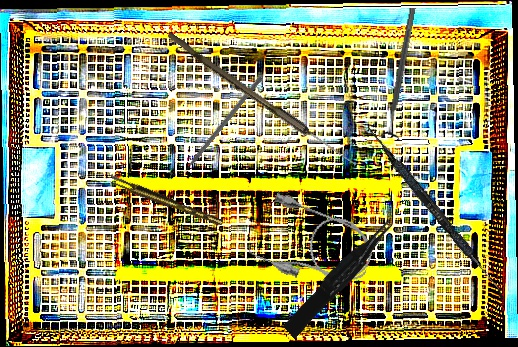Cannula: (245, 189, 382, 300)
Fixation Ring: (379, 6, 424, 141)
Hook Surgical: (177, 75, 263, 179)
Spatula Surgical: (361, 124, 511, 300)
Surgical Spoon: (164, 32, 360, 169)
Tissue Forceps: (278, 218, 402, 339), (108, 171, 224, 232)
